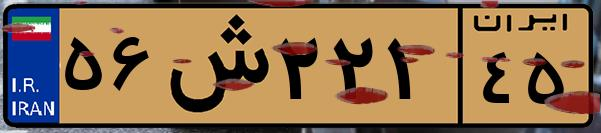1: (385, 28, 445, 110)
2: (270, 28, 330, 110), (330, 28, 385, 110)
4: (475, 38, 525, 113)
5: (57, 26, 110, 100), (525, 38, 570, 115)
6: (110, 28, 158, 98)
ش: (158, 12, 270, 120)
